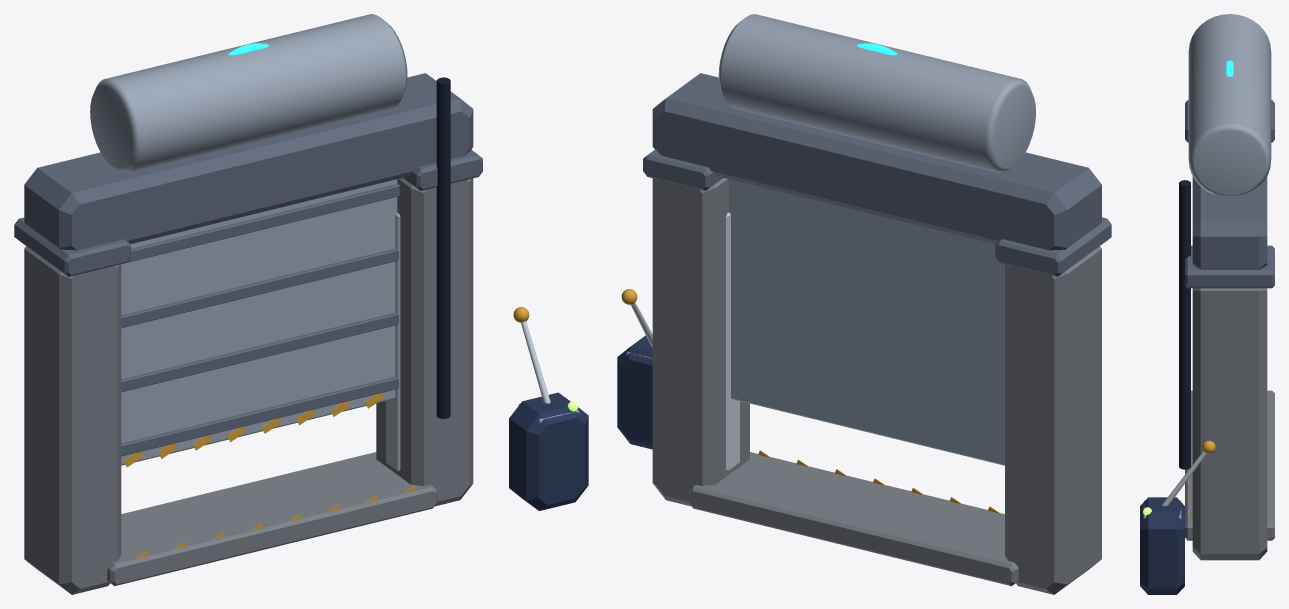
File: shared_floodgate.glb
3 renders of one model, left to right at view 1: azimuth 30°, elevation 25°; view 2: azimuth 150°, elevation 25°; view 3: azimuth 270°, elevation 25°, orthographic. The views are drawn at different scales.
Parts seen in each view (by area): view 1: gate_leaf_plate, gate_header, gate_pier-1, gate_tank, gate_sill, gate_pier1, gate_ped, gate_overflow, gate_leaf_rib0, gate_leaf_rib1, gate_leaf_rib2, gate_leaf_rib3 (+4 smaller); view 2: gate_leaf_plate, gate_header, gate_pier-1, gate_tank, gate_pier1, gate_sill, gate_ped, gate_pier_cap-1, gate_guide1, gate_pier_cap1; view 3: gate_pier1, gate_tank, gate_header, gate_ped, gate_overflow, gate_pier_cap1, gate_sill, gate_lever_arm, gate_pier_cap-1.
Part boxes in pixels (box(x1,y1,x2,y2)): gate_leaf_plate: box(121, 179, 397, 465); gate_header: box(24, 73, 473, 250); gate_pier-1: box(24, 246, 121, 594); gate_tank: box(90, 14, 407, 172); gate_sill: box(107, 452, 437, 586); gate_pier1: box(376, 178, 473, 506); gate_ped: box(509, 392, 588, 510); gate_overflow: box(436, 77, 450, 418); gate_leaf_rib0: box(121, 376, 398, 456); gate_leaf_rib1: box(121, 312, 398, 392); gate_leaf_rib2: box(121, 248, 398, 328); gate_leaf_rib3: box(127, 184, 399, 262); gate_leaf_plate: box(729, 179, 1004, 465); gate_header: box(652, 73, 1101, 250); gate_pier-1: box(1005, 246, 1101, 594); gate_tank: box(718, 14, 1035, 172); gate_pier1: box(652, 178, 749, 506); gate_sill: box(689, 452, 1018, 585); gate_ped: box(617, 335, 652, 449); gate_pier_cap-1: box(995, 217, 1111, 276); gate_guide1: box(726, 212, 739, 471); gate_pier_cap1: box(643, 150, 723, 190); gate_pier1: box(1192, 288, 1267, 560); gate_tank: box(1188, 14, 1271, 195); gate_header: box(1192, 176, 1267, 269); gate_ped: box(1140, 497, 1184, 594); gate_overflow: box(1179, 180, 1190, 469); gate_pier_cap1: box(1185, 245, 1274, 288); gate_sill: box(1185, 390, 1274, 540); gate_lever_arm: box(1162, 451, 1206, 506); gate_pier_cap-1: box(1185, 100, 1274, 142).
Size of the model in its own units: 6.54 by 6.12 by 1.8.
